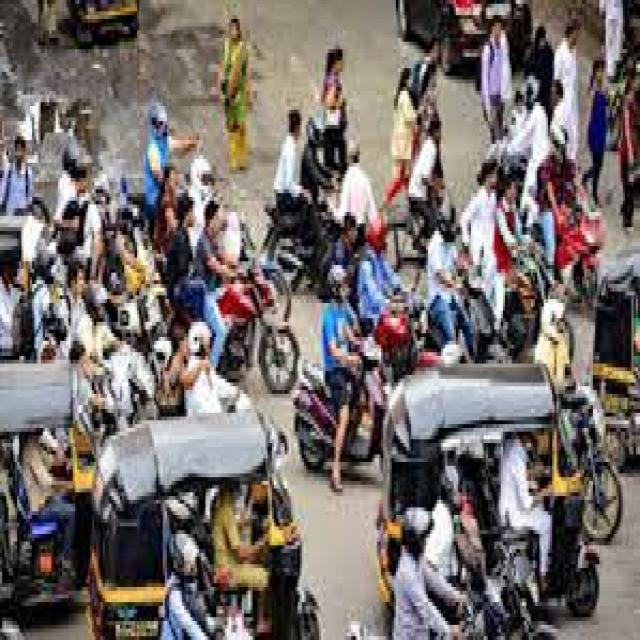car: (395, 0, 527, 72)
motorcycle: (292, 339, 384, 472), (218, 263, 297, 396), (459, 530, 548, 640), (559, 396, 619, 545), (422, 282, 506, 366), (262, 202, 337, 293), (546, 183, 602, 301)
person: (393, 510, 463, 640), (211, 488, 267, 640), (322, 267, 356, 491), (497, 438, 548, 579), (192, 202, 233, 370), (459, 160, 499, 328), (21, 438, 73, 556), (143, 103, 194, 221), (506, 76, 546, 225), (427, 221, 469, 354), (356, 217, 401, 335), (160, 533, 205, 640), (166, 198, 203, 320), (382, 69, 412, 206), (220, 15, 245, 171), (179, 324, 220, 415), (491, 171, 514, 328), (480, 19, 508, 145), (580, 61, 604, 206), (617, 61, 636, 232), (425, 469, 454, 579), (75, 282, 113, 362), (553, 23, 574, 164), (320, 50, 343, 175), (273, 110, 301, 210), (81, 175, 107, 282), (339, 149, 373, 229), (53, 149, 77, 259), (32, 240, 53, 362), (407, 114, 435, 202), (0, 137, 32, 213), (158, 339, 186, 419), (68, 339, 92, 427), (0, 267, 19, 358), (68, 263, 85, 350), (548, 80, 565, 160)
three wheeler: (378, 366, 602, 617), (90, 415, 299, 640), (0, 362, 92, 621), (591, 274, 636, 469)
